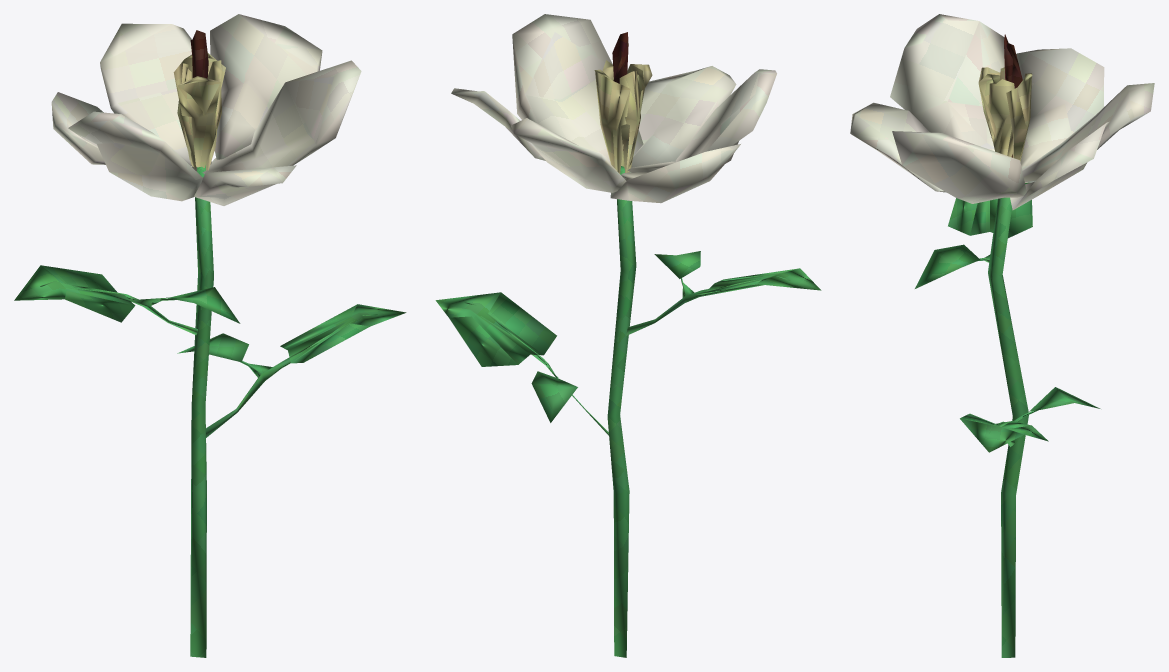
Rendered from white_lily.fbx.
3 renders of one model, left to right at view 1: azimuth 30°, elevation 25°; view 2: azimuth 150°, elevation 25°; view 3: azimuth 270°, elevation 25°, orthographic.
Parts seen in each view (by area): view 1: white_lily; view 2: white_lily; view 3: white_lily.
Part boxes in pixels (x1=…): white_lily: x1=14, y1=14, x2=406, y2=657; white_lily: x1=435, y1=14, x2=821, y2=657; white_lily: x1=850, y1=14, x2=1154, y2=657.
Bounding box in the file's own units: 38.57 × 59.21 × 26.33.
